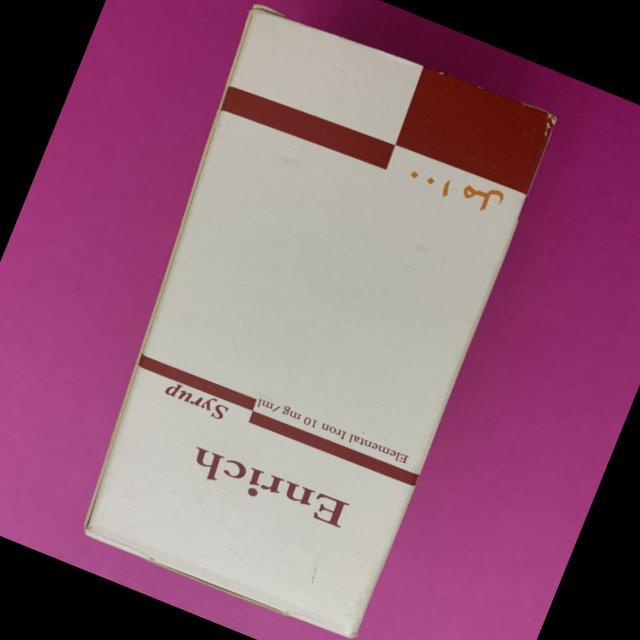Medicine Name: (166, 424, 368, 556)
